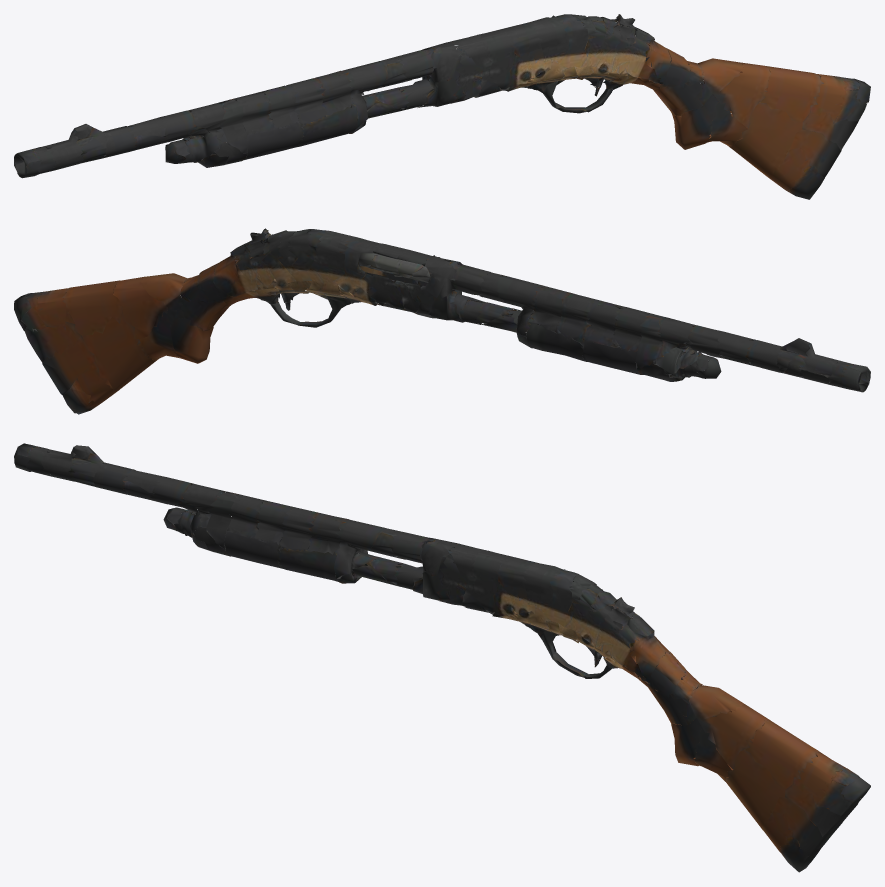
File: sg-meshy-low.glb
3 views of the same model, one above another, from view 1: azimuth 30°, elevation 25°; view 2: azimuth 150°, elevation 25°; view 3: azimuth 330°, elevation 25° (orthographic).
Parts seen in each view (by area): view 1: Mesh_0.009; view 2: Mesh_0.009; view 3: Mesh_0.009.
Part boxes in pixels (x1=…): Mesh_0.009: x1=14, y1=14, x2=870, y2=199; Mesh_0.009: x1=14, y1=228, x2=870, y2=414; Mesh_0.009: x1=14, y1=443, x2=870, y2=872.
Bounding box in the file's own units: 1.9 × 0.5328 × 0.0997.
1 material, 1 textured.
